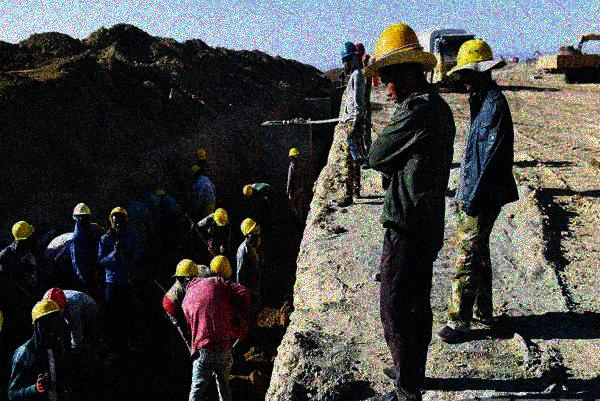helmet: (370, 22, 427, 103), (452, 36, 498, 93), (28, 300, 64, 337), (171, 257, 199, 285), (11, 219, 37, 247), (240, 218, 261, 249), (41, 288, 68, 312), (208, 255, 232, 281), (340, 41, 357, 74), (108, 206, 130, 230), (72, 202, 92, 227), (242, 184, 256, 201), (286, 145, 300, 161), (190, 164, 203, 180), (354, 42, 366, 58), (196, 148, 207, 164)
